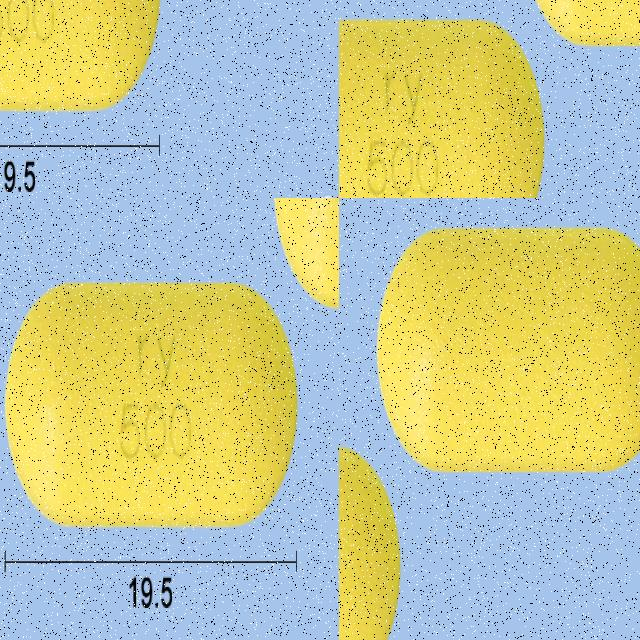Levotam: (8, 198, 250, 529)
Rheumakin Tab: (378, 227, 640, 468)
Unasyn Tab: (0, 0, 164, 109)
Uniciprosacin Tab: (339, 63, 571, 198)
